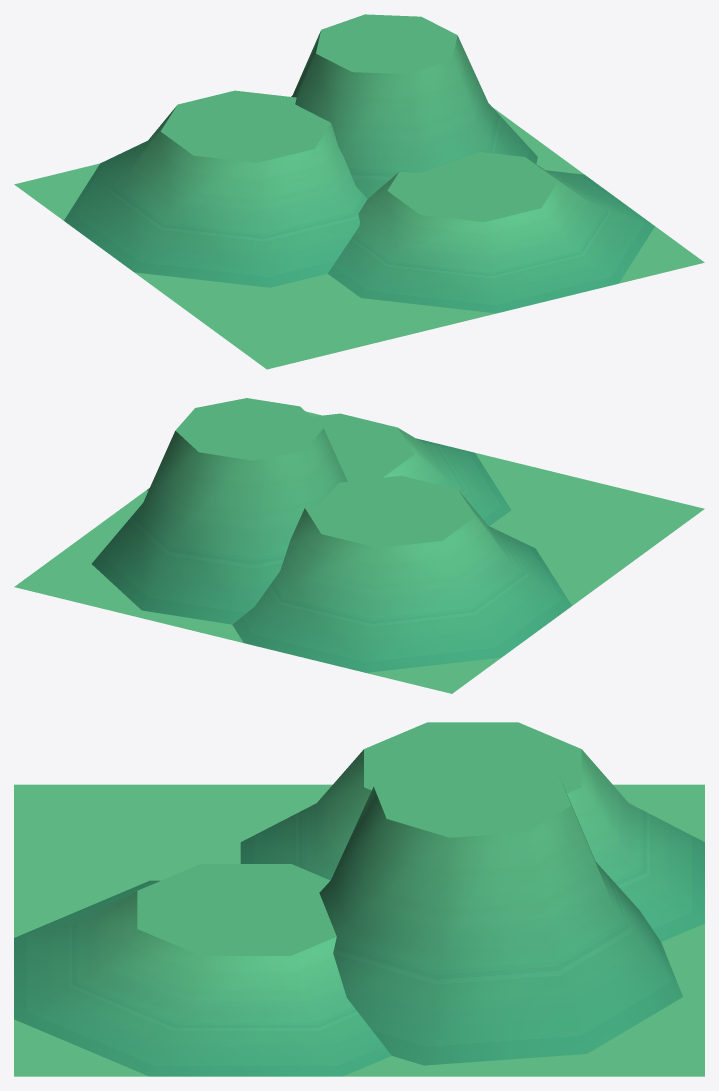
File: ground-hills.glb
3 views of the same model, one above another, from view 1: azimuth 30°, elevation 25°; view 2: azimuth 150°, elevation 25°; view 3: azimuth 270°, elevation 25° (orthographic). The views are drawn at different scales.
Visible parts, largest first — view 1: ground-hills; view 2: ground-hills; view 3: ground-hills.
Part boxes in pixels (x1,y1,x2,y2): ground-hills: (14, 14, 704, 369); ground-hills: (14, 398, 704, 693); ground-hills: (14, 722, 704, 1076).
Size of the model in its own units: 1 by 0.2882 by 1.
Materials: 1 (1 with a texture image).
